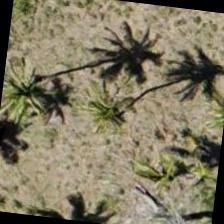Kelapa_Sawit: (105, 124, 205, 224), (76, 58, 176, 158), (0, 44, 74, 142), (167, 116, 223, 212)
